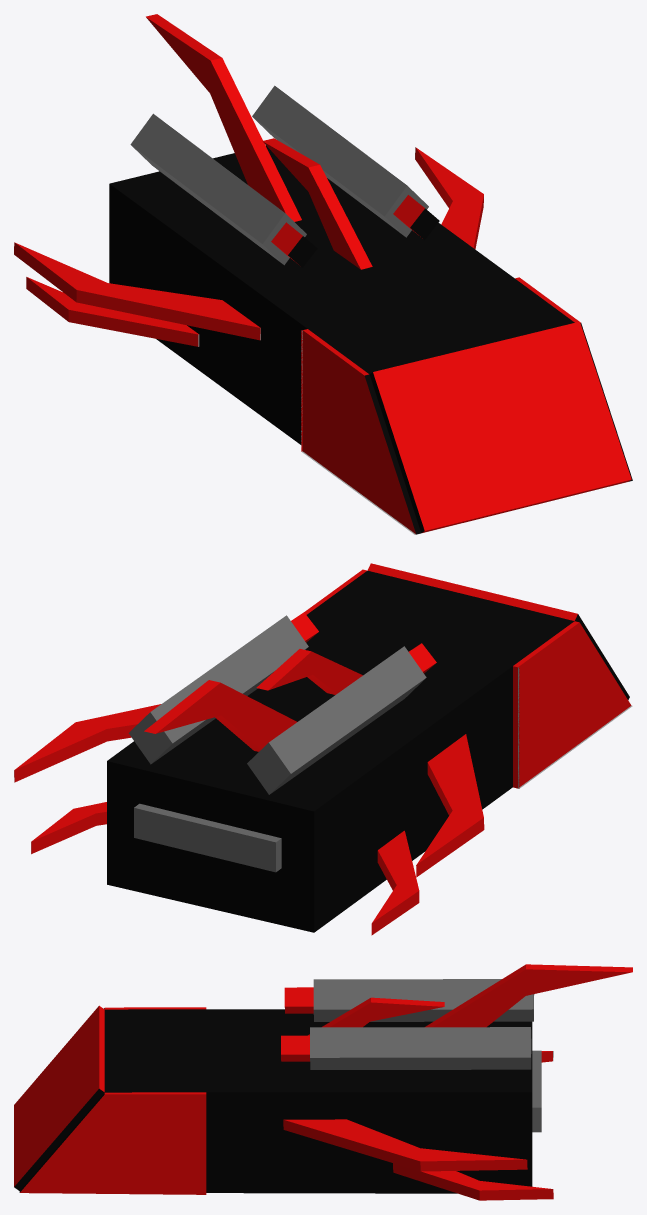
Rendered from FBX Finished Enemy Hermes Ship.fbx.
3 renders of one model, top to bottom at view 1: azimuth 30°, elevation 25°; view 2: azimuth 150°, elevation 25°; view 3: azimuth 270°, elevation 25°, orthographic. The views are drawn at different scales.
Parts seen in each view (by area): view 1: pCube1, pasted__pasted__pasted__pCylinder3, pasted__pasted__pCylinder3, pasted__pasted__pasted__pasted__pCube4 (×2), pasted__pasted__pasted__pCube4, pasted__pCube4, pasted__pasted__pCube4; view 2: pCube1, pasted__pasted__pasted__pCylinder3, pasted__pasted__pasted__pCube4 (×2), pasted__pasted__pCylinder3, pCube2, pasted__pasted__pasted__pasted__pCube4 (×2), pasted__pCube4, pasted__pasted__pCube4; view 3: pCube1, pasted__pasted__pCylinder3, pasted__pasted__pasted__pCylinder3, pasted__pasted__pCube4, pasted__pCube4, pasted__pasted__pasted__pCube4, pasted__pasted__pasted__pasted__pCube4, pCube2.
Part boxes in pixels (box(x1,y1,x2,y2)): pCube1: box(109, 145, 632, 534); pasted__pasted__pasted__pCylinder3: box(130, 113, 317, 267); pasted__pasted__pCylinder3: box(252, 85, 439, 240); pasted__pasted__pasted__pasted__pCube4 (×2): box(26, 138, 372, 346); pasted__pasted__pasted__pCube4: box(14, 242, 260, 340); pasted__pCube4: box(146, 14, 301, 221); pasted__pasted__pCube4: box(415, 147, 483, 249); pCube1: box(107, 563, 632, 932); pasted__pasted__pasted__pCylinder3: box(247, 643, 436, 794); pasted__pasted__pasted__pCube4 (×2): box(31, 734, 484, 877); pasted__pasted__pCylinder3: box(128, 612, 318, 764); pCube2: box(134, 803, 281, 872); pasted__pasted__pasted__pasted__pCube4 (×2): box(256, 649, 419, 935); pasted__pCube4: box(144, 680, 296, 751); pasted__pasted__pCube4: box(14, 704, 160, 782); pCube1: box(14, 1005, 532, 1194); pasted__pasted__pCylinder3: box(281, 1027, 531, 1069); pasted__pasted__pasted__pCylinder3: box(284, 979, 534, 1021); pasted__pasted__pCube4: box(283, 1119, 527, 1171); pasted__pCube4: box(425, 964, 632, 1027); pasted__pasted__pasted__pCube4: box(393, 1163, 553, 1200); pasted__pasted__pasted__pasted__pCube4: box(308, 997, 444, 1035); pCube2: box(532, 1050, 541, 1132).
Size of the model in its own units: 10.17 by 5.38 by 16.26.
